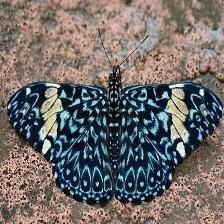butterfly: (7, 67, 224, 204)
